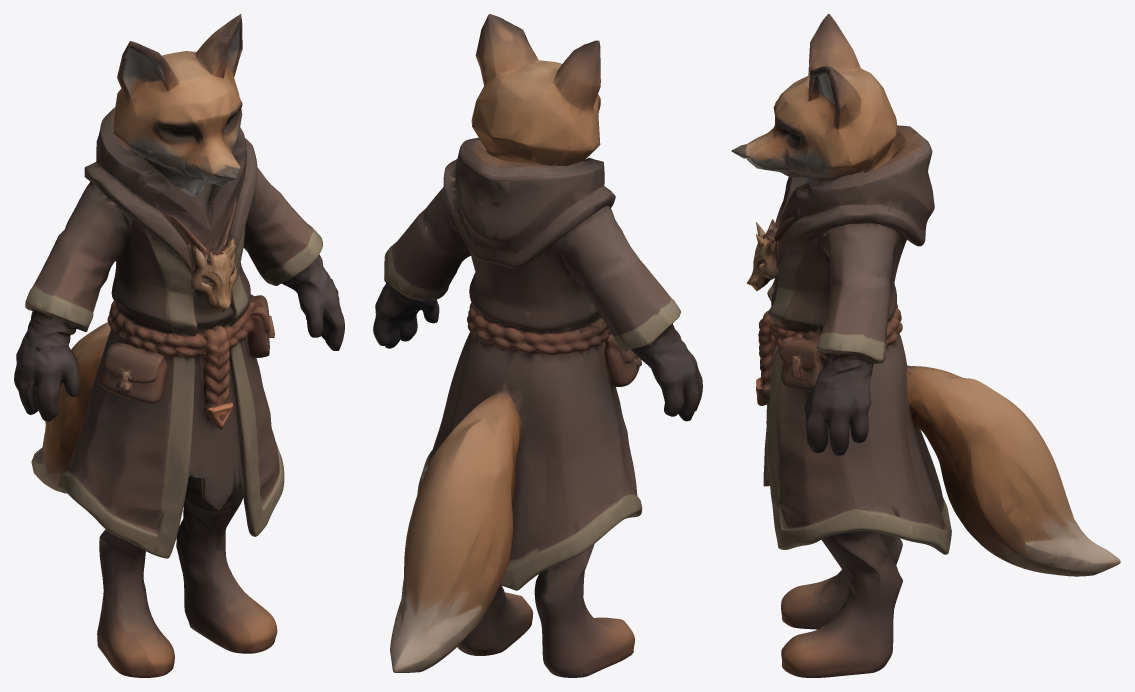
Rendered from zorro.fbx.
3 views of the same model, side by side, from view 1: azimuth 30°, elevation 25°; view 2: azimuth 150°, elevation 25°; view 3: azimuth 270°, elevation 25° (orthographic). The views are drawn at different scales.
Visible parts, largest first — view 1: node_0; view 2: node_0; view 3: node_0.
Boxes of the visible parts, x1,y1,x2,y2 form: node_0: (14, 14, 344, 677); node_0: (373, 14, 702, 677); node_0: (731, 14, 1120, 677).
Bounding box in the file's own units: 58.77 × 109 × 63.71.
1 material, 1 textured.
